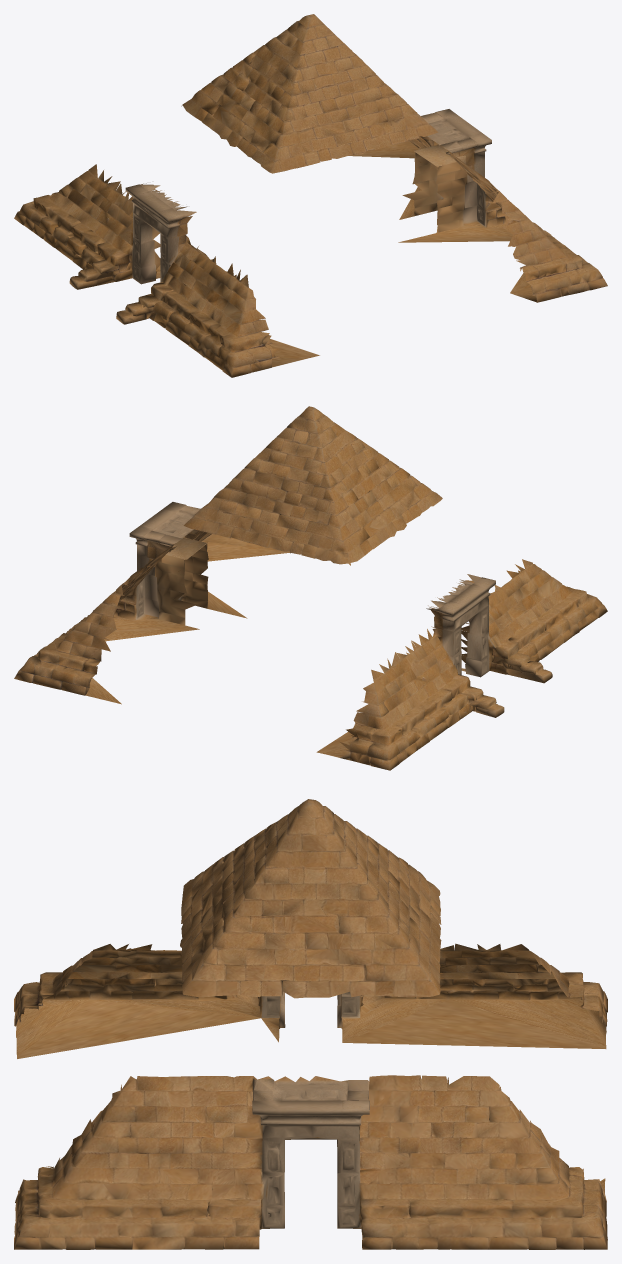
File: dust_pyramid_1.fbx
3 renders of one model, top to bottom at view 1: azimuth 30°, elevation 25°; view 2: azimuth 150°, elevation 25°; view 3: azimuth 270°, elevation 25°, orthographic. The views are drawn at different scales.
Parts seen in each view (by area): view 1: dust_pyramid_1.001; view 2: dust_pyramid_1.001; view 3: dust_pyramid_1.001.
Boxes of the visible parts, box(x1,y1,x2,y2) form: dust_pyramid_1.001: box(14, 14, 607, 377); dust_pyramid_1.001: box(14, 406, 607, 770); dust_pyramid_1.001: box(14, 799, 607, 1249).
Size of the model in its own units: 419921 by 393247 by 237019.
